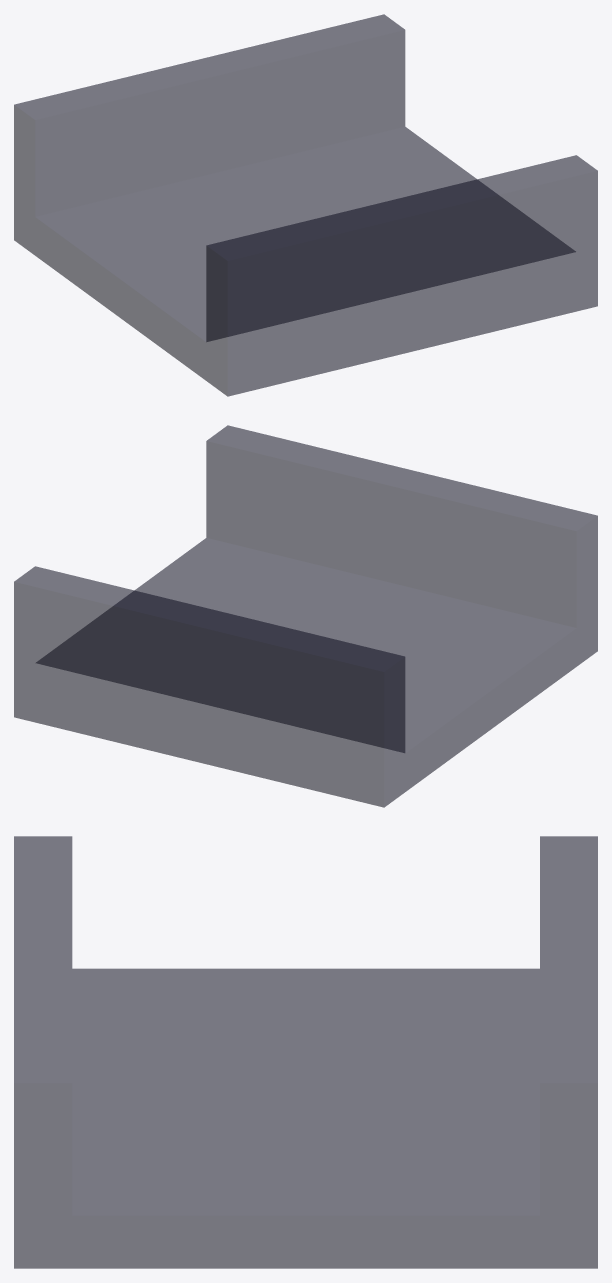
File: GlassRoof_2Edges_Small.glb
The picture shows the model from 3 angles, top to bottom: view 1: azimuth 30°, elevation 25°; view 2: azimuth 150°, elevation 25°; view 3: azimuth 270°, elevation 25°; orthographic projection. The views are drawn at different scales.
Visible parts, largest first — view 1: roof_flat_2Edges_small_glass; view 2: roof_flat_2Edges_small_glass; view 3: roof_flat_2Edges_small_glass.
Boxes of the visible parts, x1,y1,x2,y2 form: roof_flat_2Edges_small_glass: (14, 14, 597, 396); roof_flat_2Edges_small_glass: (14, 425, 597, 807); roof_flat_2Edges_small_glass: (14, 836, 597, 1268).
Size of what is drawn, in the model's own units: 2 by 0.7 by 2.
1 material, 1 textured.
